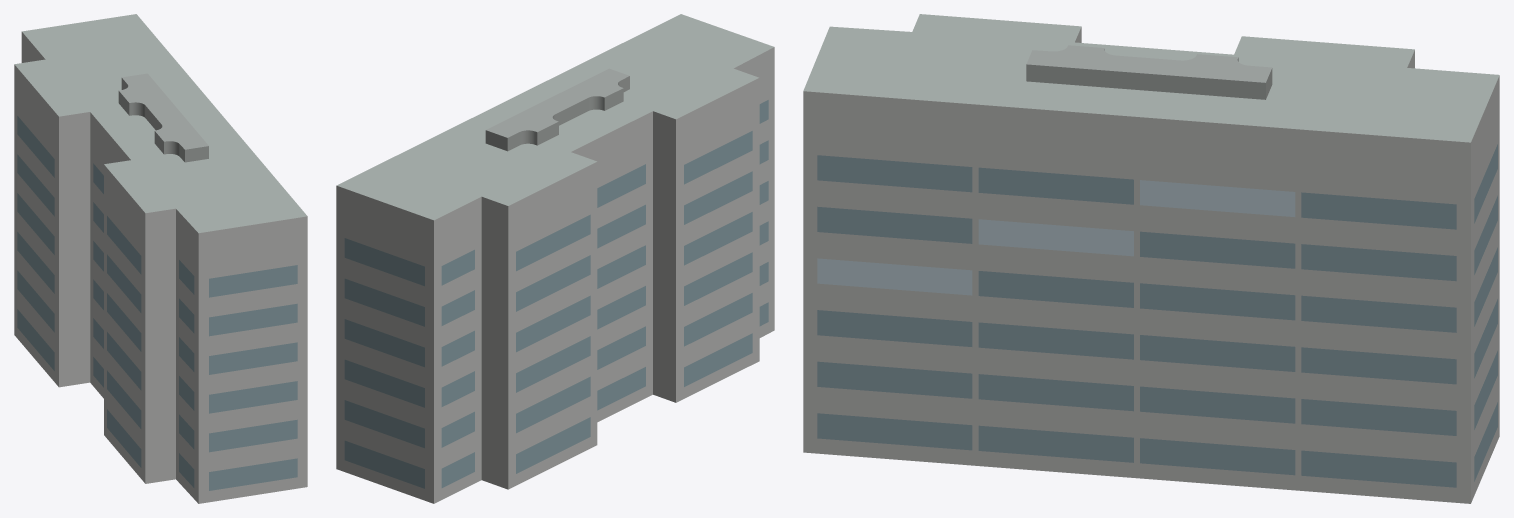
Rendered from fallback-gaepo-raemian-forest-122.glb.
The picture shows the model from 3 angles, left to right: view 1: azimuth 30°, elevation 25°; view 2: azimuth 150°, elevation 25°; view 3: azimuth 270°, elevation 25°; orthographic projection. The views are drawn at different scales.
Visible parts, largest first — view 1: fallback-gaepo-raemian-forest-122; view 2: fallback-gaepo-raemian-forest-122; view 3: fallback-gaepo-raemian-forest-122.
Boxes of the visible parts, bbox=[...] form: fallback-gaepo-raemian-forest-122: bbox=[14, 14, 307, 503]; fallback-gaepo-raemian-forest-122: bbox=[336, 14, 774, 503]; fallback-gaepo-raemian-forest-122: bbox=[803, 14, 1499, 503].
Bounding box in the file's own units: 17.5 × 24 × 40.04.
